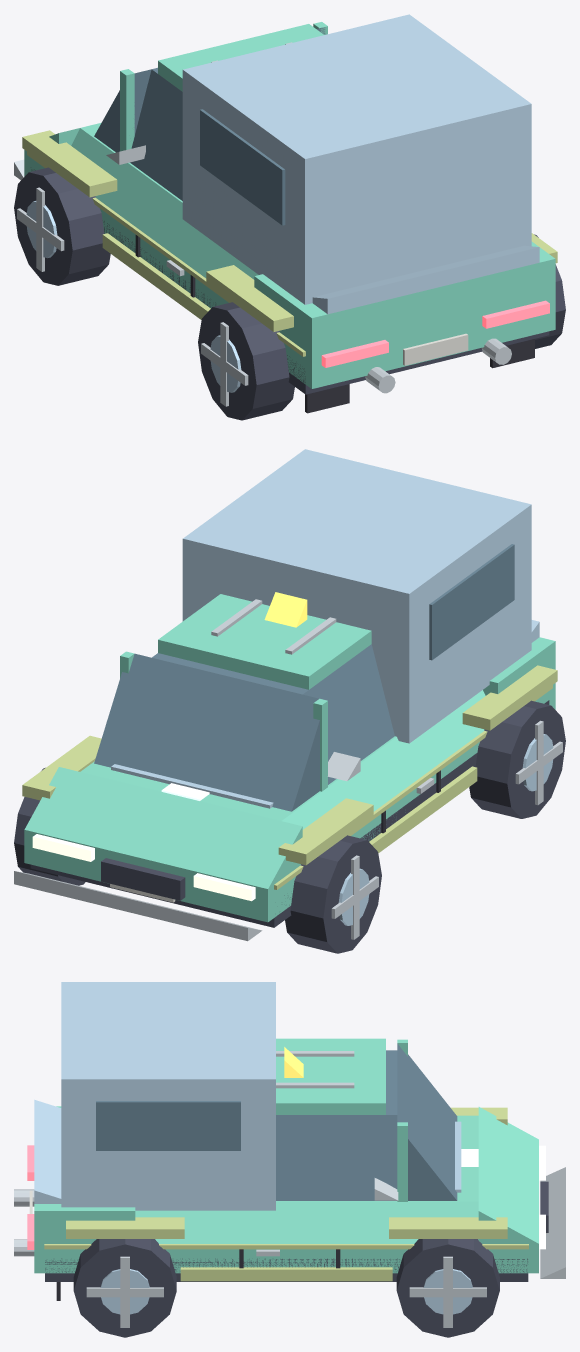
The model's file is corner_crawler.glb.
3 renders of one model, top to bottom at view 1: azimuth 30°, elevation 25°; view 2: azimuth 150°, elevation 25°; view 3: azimuth 270°, elevation 25°, orthographic. The views are drawn at different scales.
Parts seen in each view (by area): view 1: VanCargo.015, Tail.050, Body.250, ShoulderL.047, Wheel_RL.210, Wheel_FL.210, VanWindow-1.015, Ducktail.036, CabinSideL.047, Arch-1False.126, Roof.250, Arch-1True.126 (+19 smaller); view 2: VanCargo.015, Windshield.150, Nose.047, Roof.250, ShoulderL.047, Wheel_FL.210, Wheel_RL.210, Body.250, CabinSideL.047, VanWindow-1.015, Bumper.246, Arch-1False.126 (+19 smaller); view 3: VanCargo.015, ShoulderR.047, CabinSideR.047, Roof.250, VanWindow1.015, Nose.047, Body.250, Windshield.150, Wheel_FR.210, Wheel_RR.210, SideSkirt1.146, Ducktail.036 (+19 smaller).
Boxes of the visible parts, x1=… form: VanCargo.015: x1=182, y1=14, x2=531, y2=304; Tail.050: x1=254, y1=241, x2=555, y2=355; Body.250: x1=24, y1=150, x2=555, y2=388; ShoulderL.047: x1=71, y1=128, x2=258, y2=279; Wheel_RL.210: x1=198, y1=302, x2=294, y2=420; Wheel_FL.210: x1=14, y1=167, x2=110, y2=285; VanWindow-1.015: x1=200, y1=109, x2=285, y2=225; Ducktail.036: x1=312, y1=245, x2=539, y2=314; CabinSideL.047: x1=130, y1=69, x2=182, y2=200; Arch-1False.126: x1=22, y1=130, x2=117, y2=197; Roof.250: x1=158, y1=24, x2=323, y2=91; Arch-1True.126: x1=206, y1=265, x2=293, y2=331; VanCargo.015: x1=182, y1=449, x2=531, y2=743; Windshield.150: x1=94, y1=653, x2=319, y2=811; Nose.047: x1=24, y1=767, x2=302, y2=888; Roof.250: x1=158, y1=594, x2=371, y2=689; ShoulderL.047: x1=282, y1=690, x2=485, y2=829; Wheel_FL.210: x1=285, y1=835, x2=381, y2=953; Wheel_RL.210: x1=469, y1=700, x2=565, y2=818; Body.250: x1=24, y1=683, x2=555, y2=922; CabinSideL.047: x1=303, y1=644, x2=394, y2=784; VanWindow-1.015: x1=429, y1=544, x2=514, y2=660; Bumper.246: x1=14, y1=871, x2=262, y2=941; Arch-1False.126: x1=278, y1=798, x2=373, y2=865; VanCargo.015: x1=61, y1=982, x2=275, y2=1210; ShoulderR.047: x1=135, y1=1201, x2=478, y2=1243; CabinSideR.047: x1=276, y1=1115, x2=397, y2=1200; Roof.250: x1=276, y1=1038, x2=385, y2=1114; VanWindow1.015: x1=96, y1=1101, x2=240, y2=1150; Nose.047: x1=478, y1=1107, x2=538, y2=1243; Body.250: x1=34, y1=1244, x2=538, y2=1273; Windshield.150: x1=397, y1=1044, x2=457, y2=1200; Wheel_FR.210: x1=396, y1=1239, x2=499, y2=1337; Wheel_RR.210: x1=73, y1=1239, x2=176, y2=1337; SideSkirt1.146: x1=180, y1=1267, x2=392, y2=1281; Ducktail.036: x1=34, y1=1099, x2=61, y2=1203.
Bounding box in the file's own units: 3 × 2.47 × 5.14.
